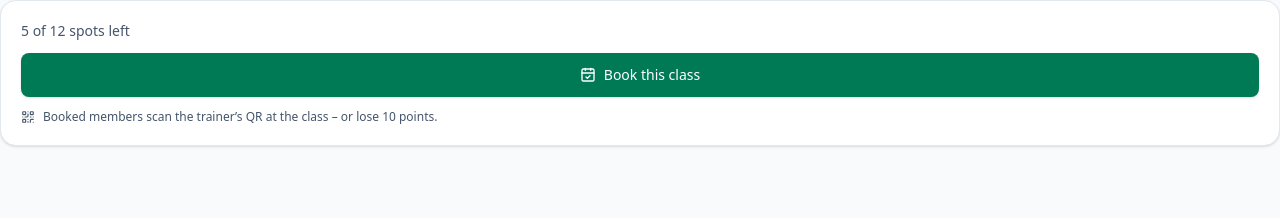
it: BookingPanel › shows the server’s message when booking fails
Click the button "Book this class" at (640, 75), box [21,53,1259,97]
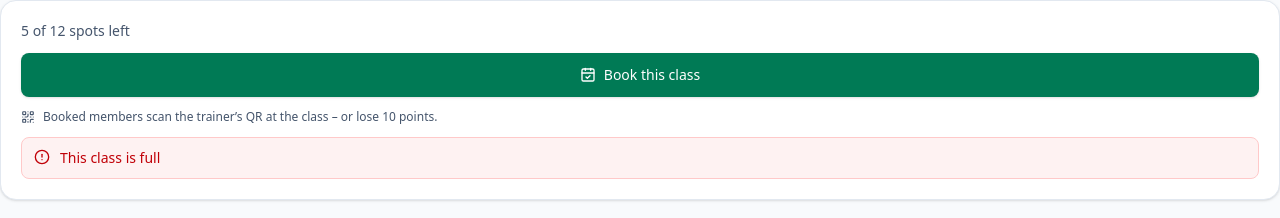
Check: the text "This class is full" is shown, box [60,148,160,168]
